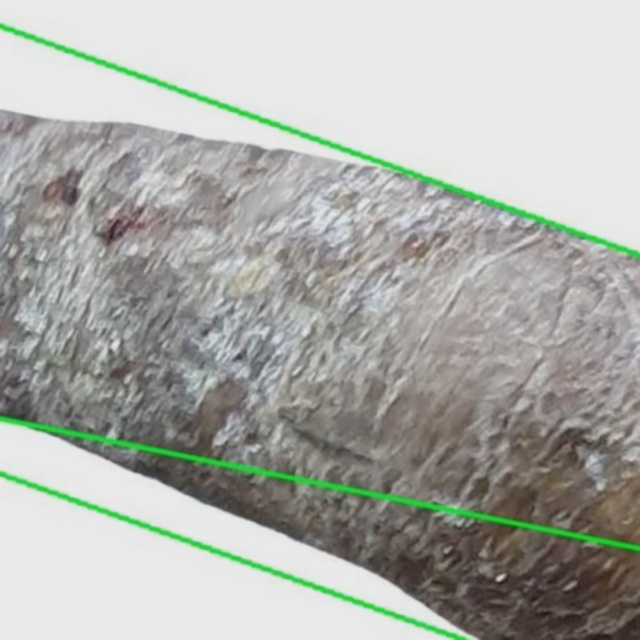Eczema: (0, 27, 639, 639)
